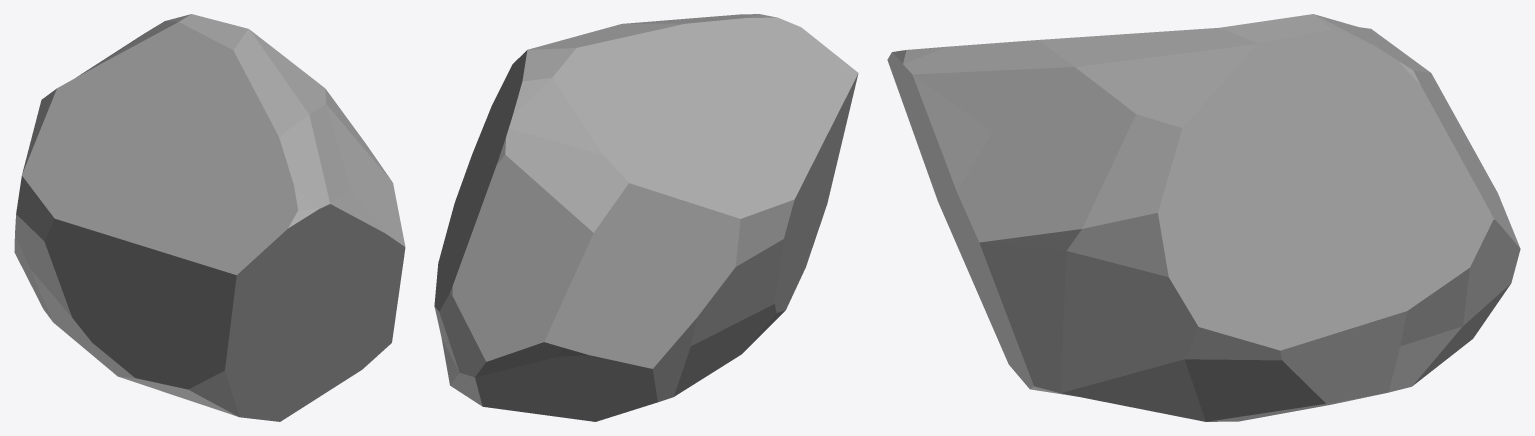
The model's file is HardRock_15.fbx.
3 renders of one model, left to right at view 1: azimuth 30°, elevation 25°; view 2: azimuth 150°, elevation 25°; view 3: azimuth 270°, elevation 25°, orthographic. The views are drawn at different scales.
Visible parts, largest first — view 1: HardRock_15; view 2: HardRock_15; view 3: HardRock_15.
Boxes of the visible parts, x1,y1,x2,y2 form: HardRock_15: [14, 14, 405, 421]; HardRock_15: [434, 14, 858, 421]; HardRock_15: [887, 14, 1520, 421].
Bounding box in the file's own units: 73.47 × 66.73 × 104.
